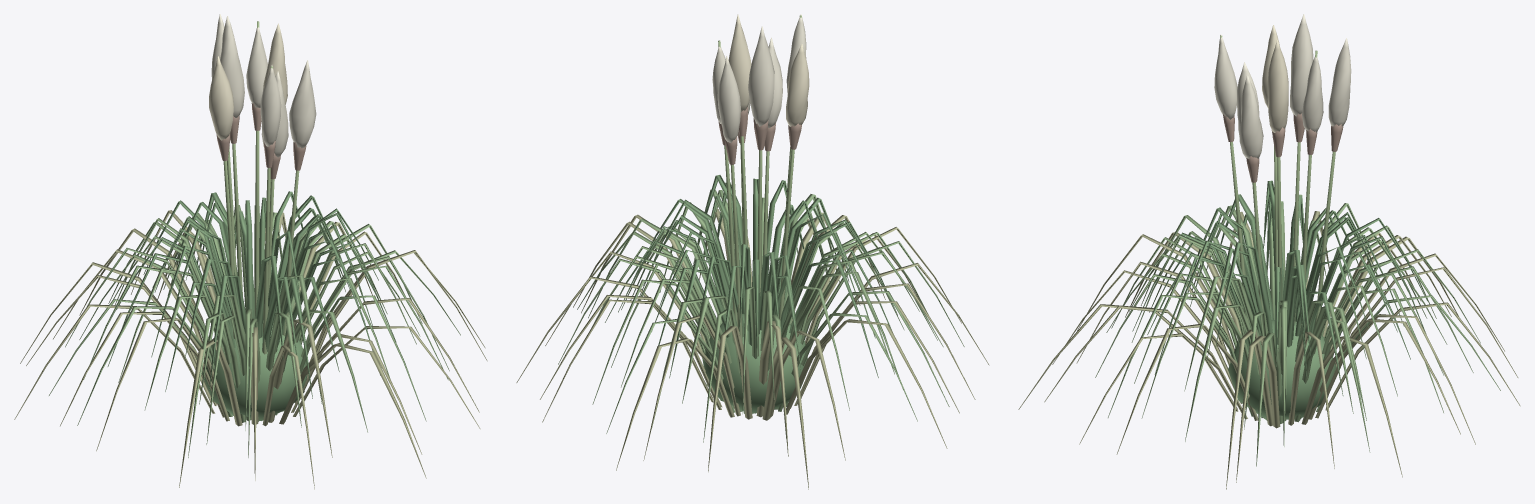
The model's file is pampas_cortadera_6.glb.
3 views of the same model, side by side, from view 1: azimuth 30°, elevation 25°; view 2: azimuth 150°, elevation 25°; view 3: azimuth 270°, elevation 25° (orthographic).
Parts seen in each view (by area): view 1: CortBladeDeep, CortBladeMid, CortBladeDry, CortPlumeSilk, CortStalks, CortPlumeGold, CortSheaths; view 2: CortBladeDeep, CortBladeMid, CortBladeDry, CortPlumeSilk, CortStalks, CortPlumeGold, CortSheaths; view 3: CortBladeDeep, CortBladeMid, CortBladeDry, CortPlumeSilk, CortStalks, CortPlumeGold, CortSheaths.
Part boxes in pixels (x1,y1,x2,y2): CortBladeDeep: [107, 191, 396, 420]; CortBladeMid: [49, 205, 460, 457]; CortBladeDry: [14, 210, 487, 489]; CortPlumeSilk: [211, 14, 316, 157]; CortStalks: [223, 21, 299, 354]; CortPlumeGold: [209, 23, 287, 140]; CortSheaths: [216, 103, 306, 179]; CortBladeDeep: [605, 175, 897, 413]; CortBladeMid: [558, 189, 964, 442]; CortBladeDry: [516, 209, 989, 489]; CortPlumeSilk: [712, 14, 806, 142]; CortStalks: [718, 15, 801, 341]; CortPlumeGold: [728, 14, 809, 126]; CortSheaths: [718, 107, 801, 164]; CortBladeDeep: [1132, 180, 1427, 419]; CortBladeMid: [1095, 194, 1500, 466]; CortBladeDry: [1018, 211, 1520, 489]; CortPlumeSilk: [1214, 14, 1351, 158]; CortStalks: [1220, 35, 1335, 344]; CortPlumeGold: [1262, 25, 1288, 132]; CortSheaths: [1223, 113, 1343, 182].
Size of the model in its own units: 1.99 by 1.76 by 2.06.
